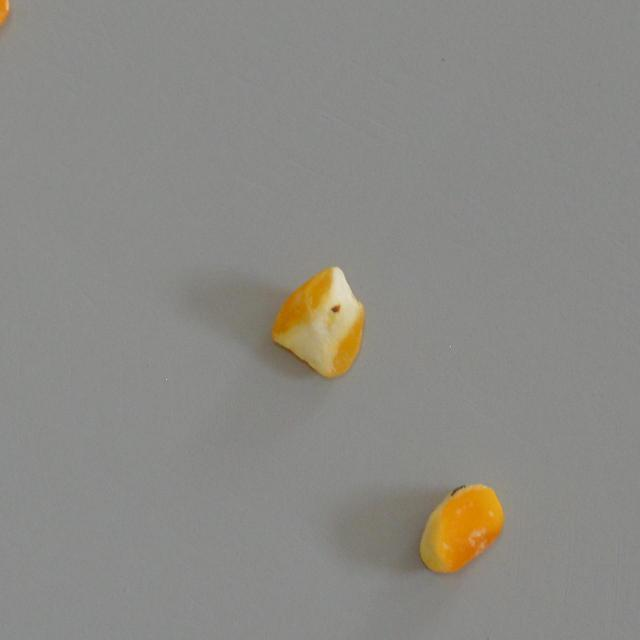dañado: (412, 473, 510, 588)
punto_negro: (267, 263, 372, 387)
